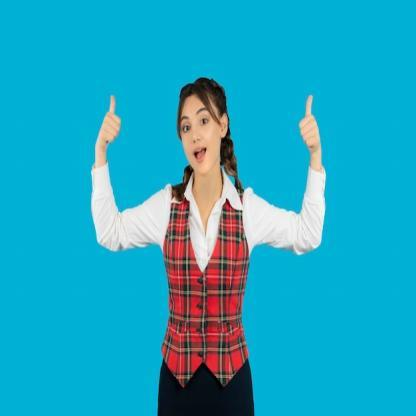thumb_up: (296, 91, 327, 153), (96, 92, 123, 150)
